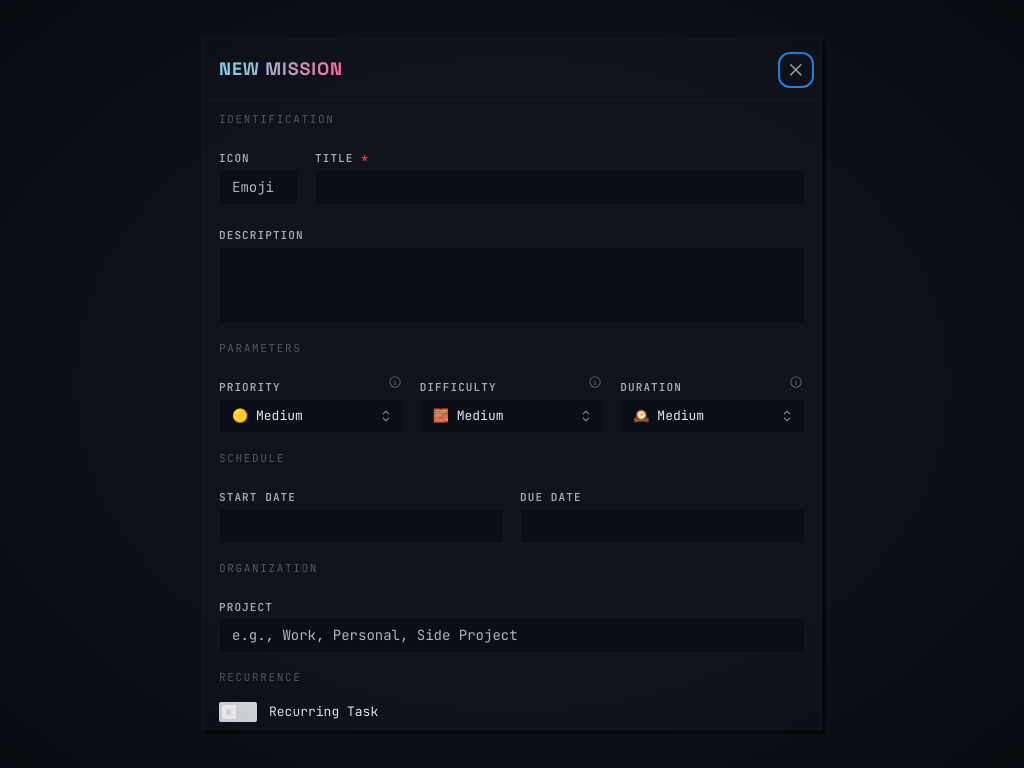
Test: TaskForm › shows recurrence pattern builder when habit is enabled
Expected: the text "recurrence pattern" is not shown
Enable habit
Click the switch labelled "Recurring Task" at (299, 712), box [219,702,378,722]
(page scrolled)
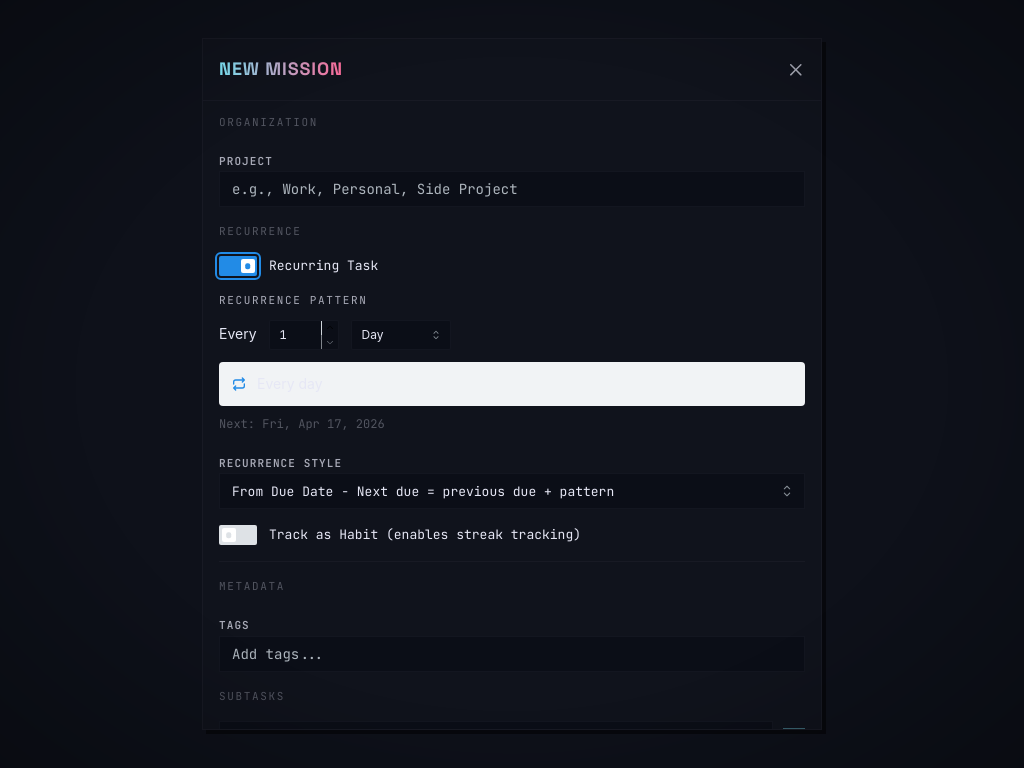
Result: the text "RECURRENCE PATTERN" is shown at [219,294,368,308]
